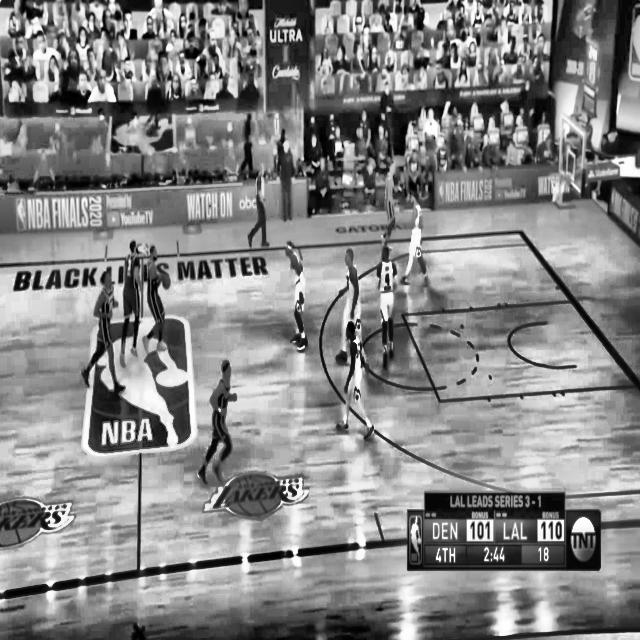Basketball: (163, 277, 170, 289)
